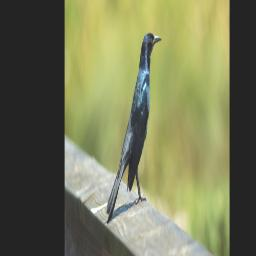Crow: (105, 30, 162, 223)
